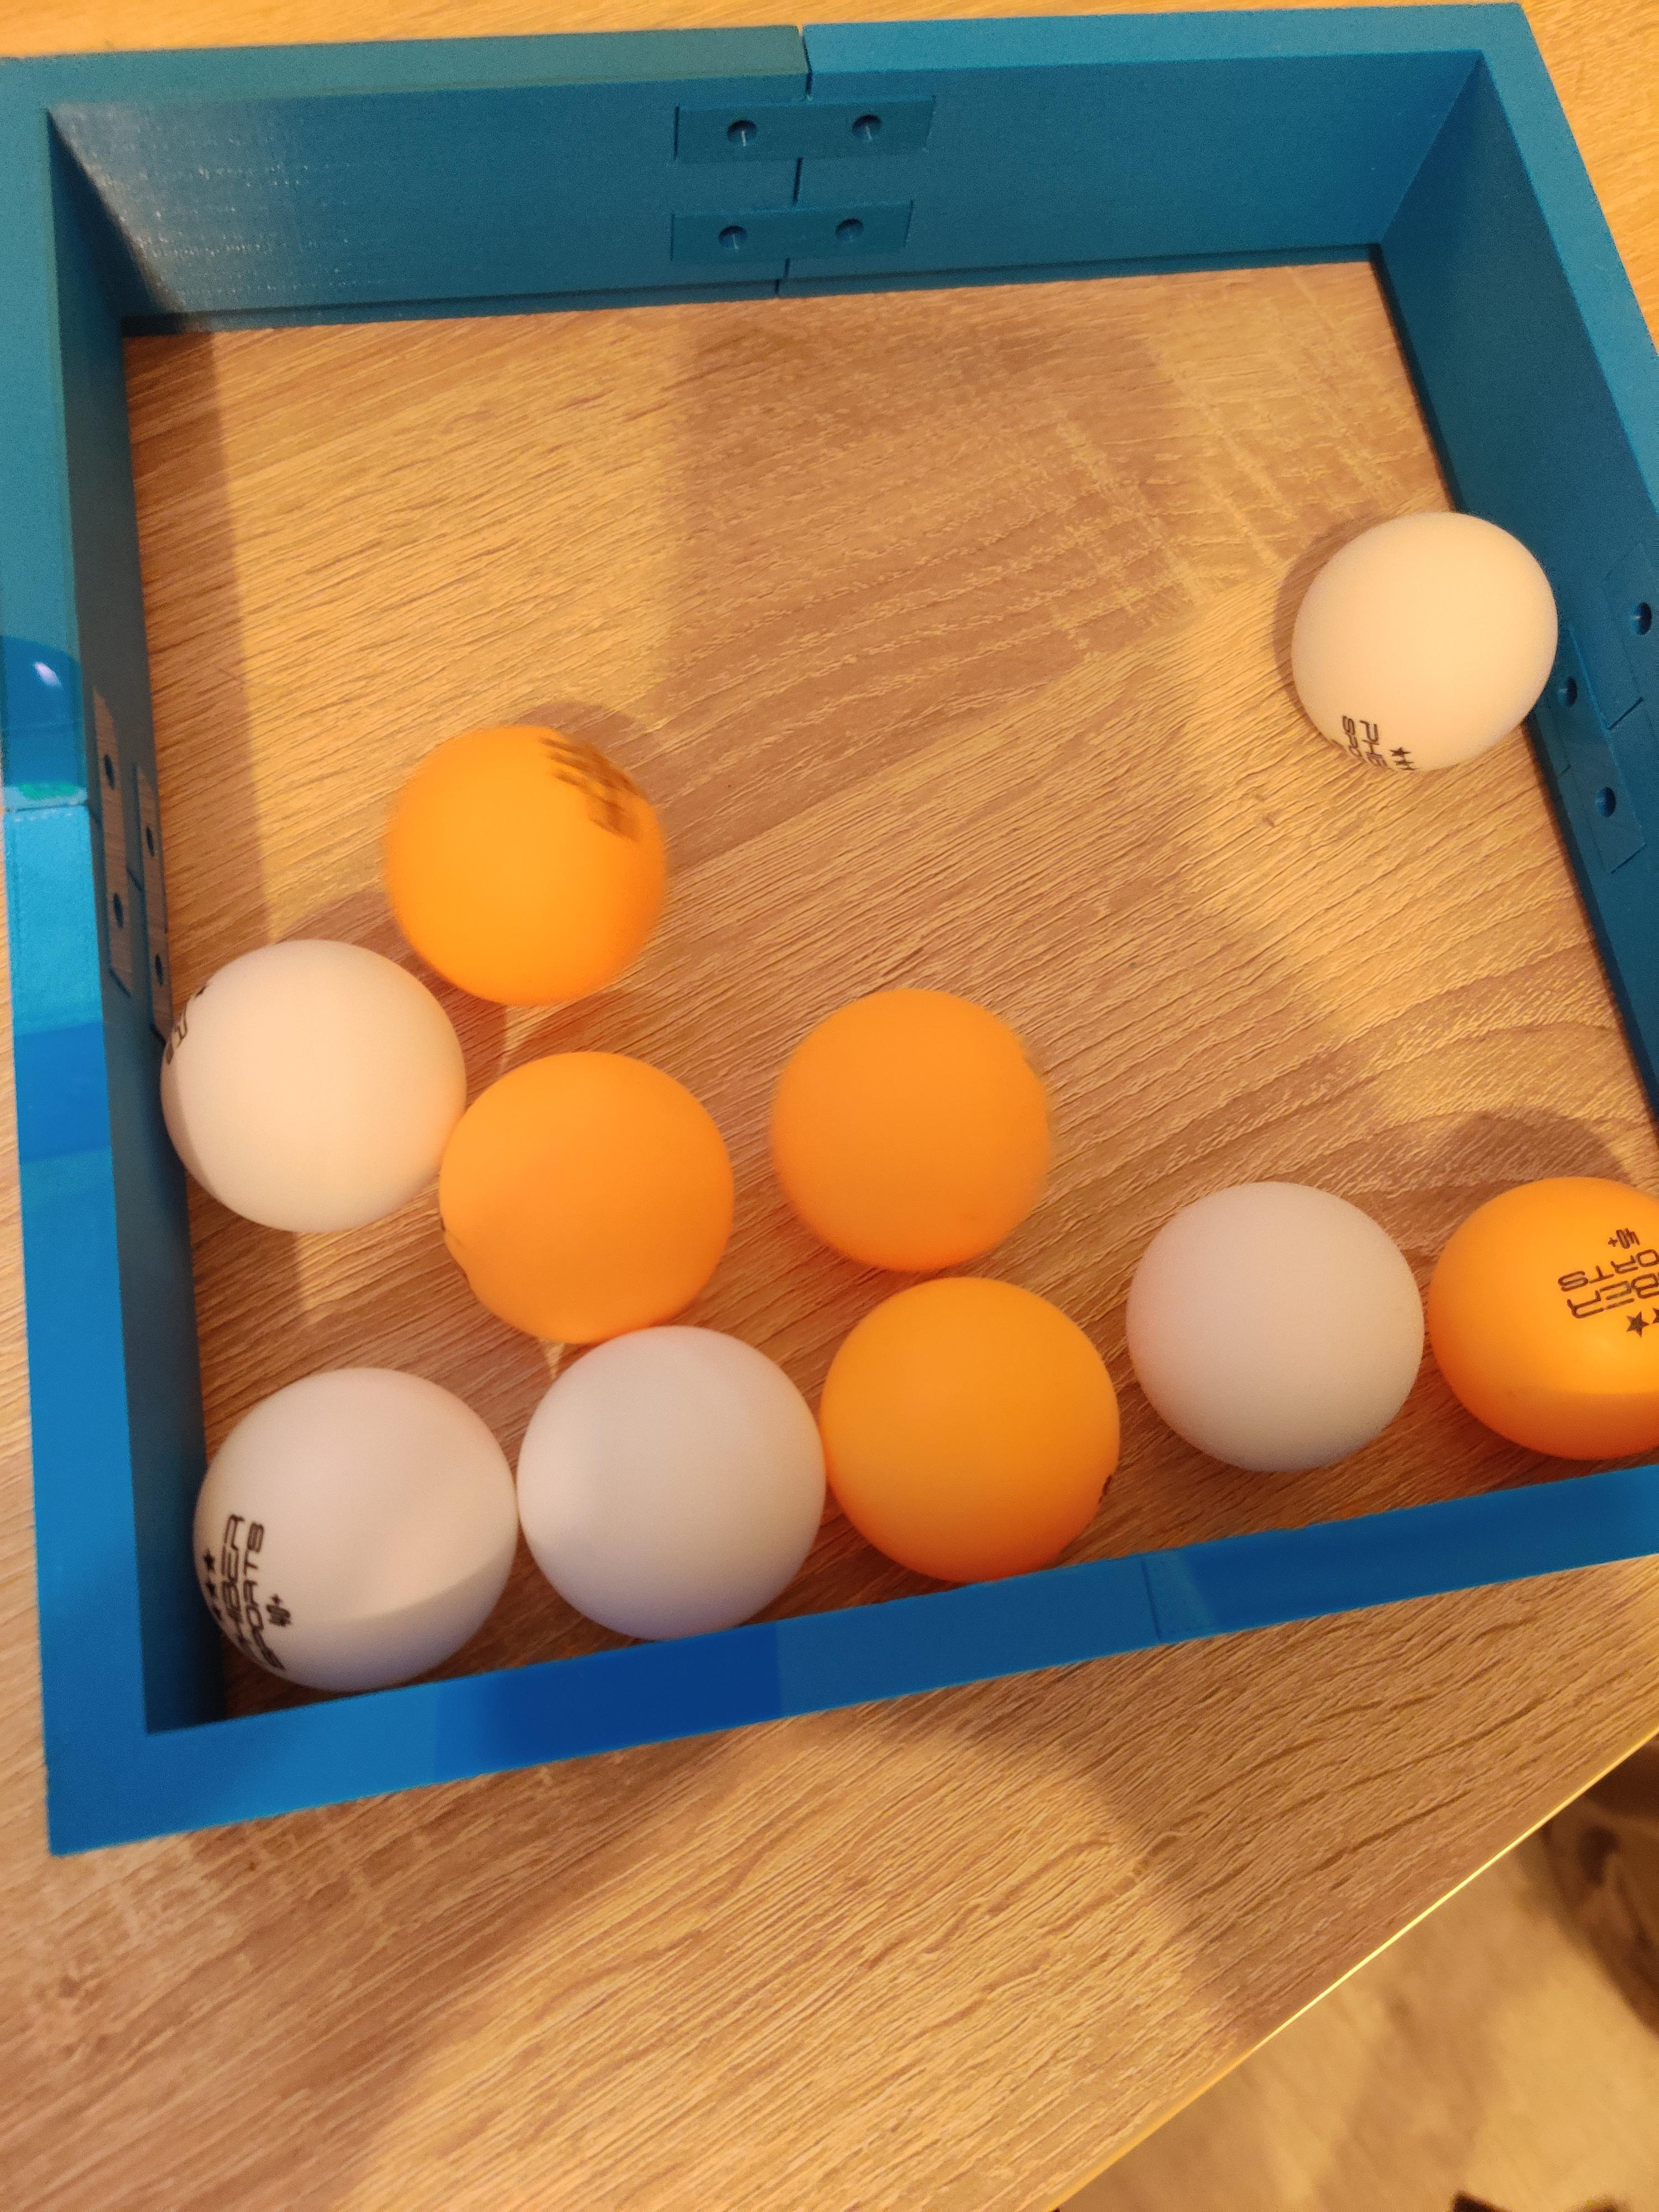orange: (809, 1270, 1121, 1587), (432, 1043, 742, 1352), (371, 716, 673, 1014), (767, 979, 1054, 1273), (1427, 1170, 1659, 1467)
white: (192, 1359, 521, 1702), (150, 927, 462, 1240), (526, 1317, 824, 1644), (1124, 1170, 1427, 1472), (1286, 503, 1561, 780)
